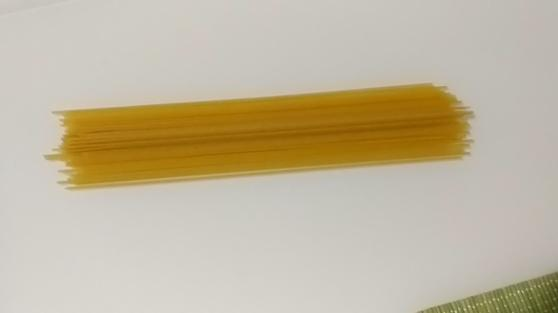spaghetti: (30, 75, 483, 198)
